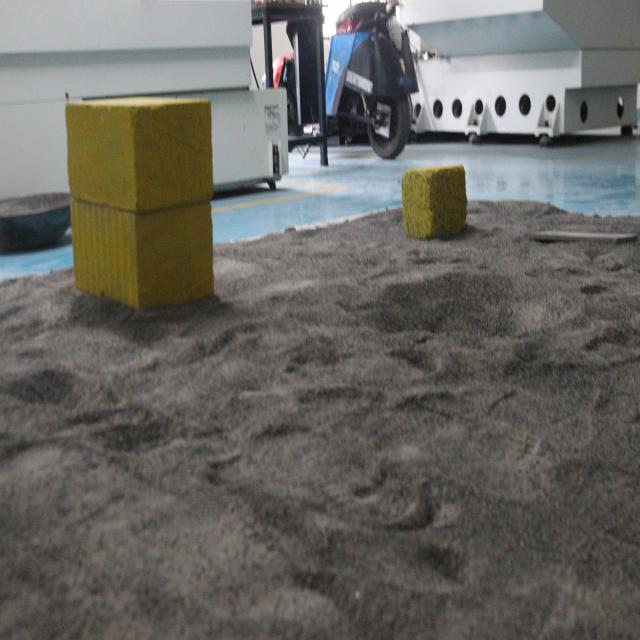box: (66, 89, 215, 314), (400, 159, 469, 244)
crater: (365, 247, 595, 361)
